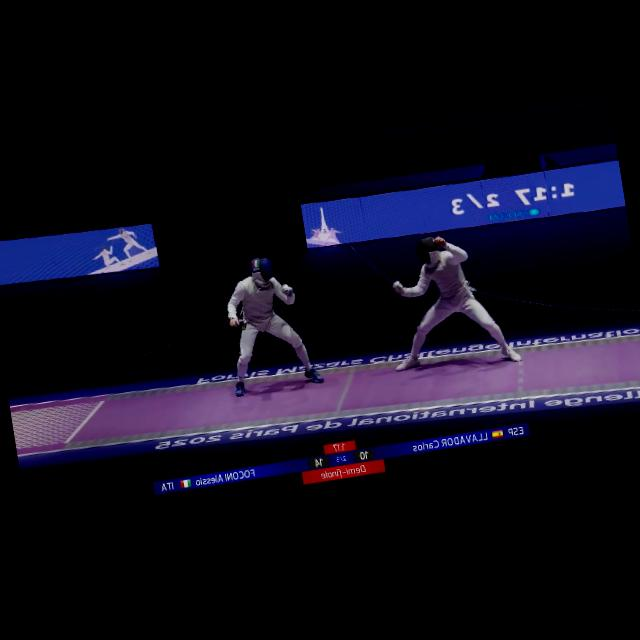blade: (342, 228, 410, 296)
